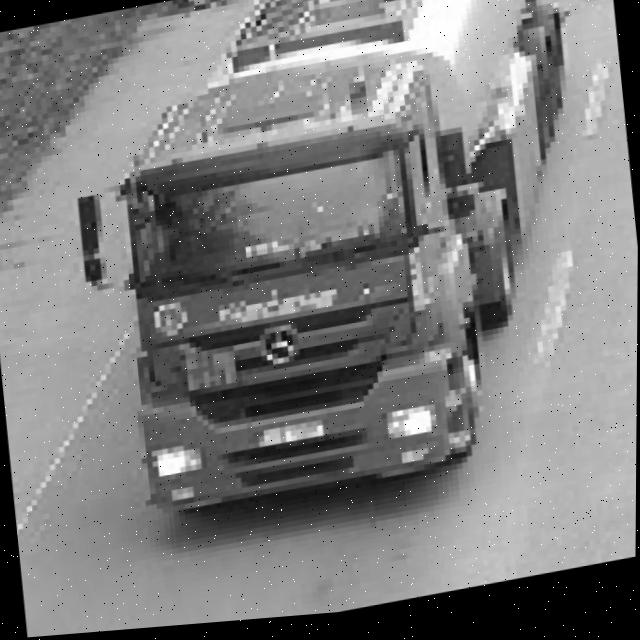truck: (65, 24, 526, 545)
